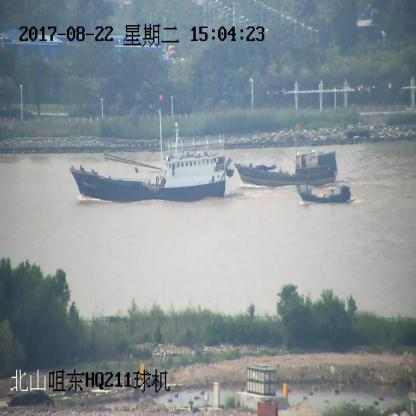Fishing Boat: (70, 93, 236, 201), (236, 127, 338, 188), (299, 180, 350, 204)
